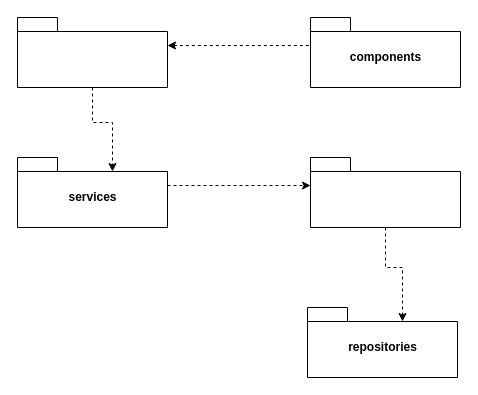
Image size: 478x395. Some labels were removed from this diagram. Each missing label, with the centre of its shape:
entities: (385,192)
ui: (92,52)
